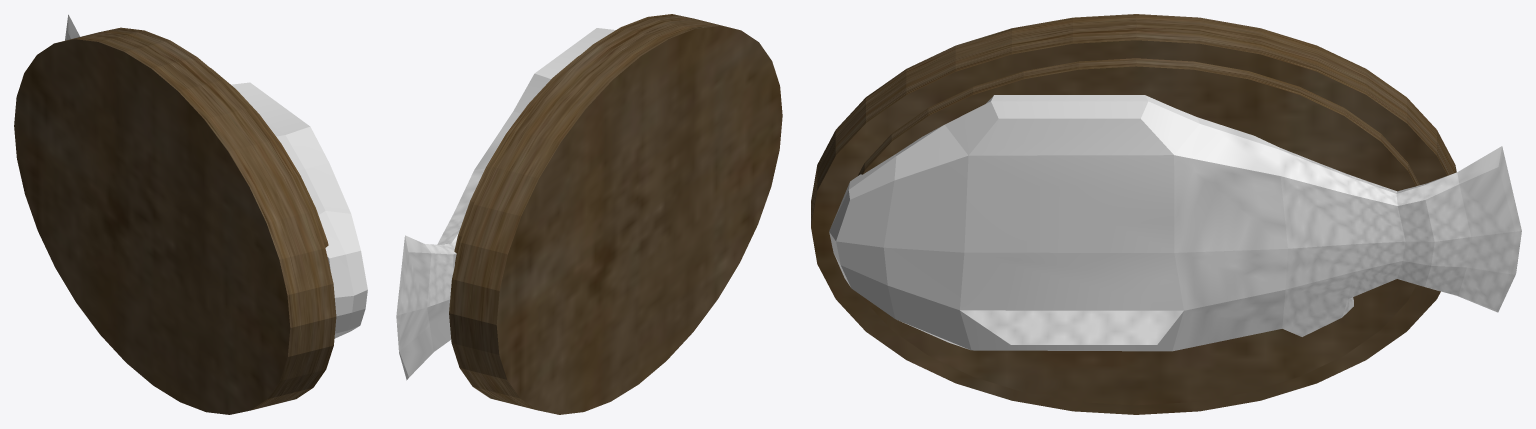
The model's file is kysTotem.fbx.
3 renders of one model, left to right at view 1: azimuth 30°, elevation 25°; view 2: azimuth 150°, elevation 25°; view 3: azimuth 270°, elevation 25°, orthographic. The views are drawn at different scales.
Visible parts, largest first — view 1: Cube.001; view 2: Cube.001; view 3: Cube.001.
Boxes of the visible parts, x1,y1,x2,y2 form: Cube.001: [14, 14, 367, 414]; Cube.001: [396, 14, 782, 414]; Cube.001: [811, 14, 1521, 414].
Size of the model in its own units: 22.05 by 54.27 by 93.46.
